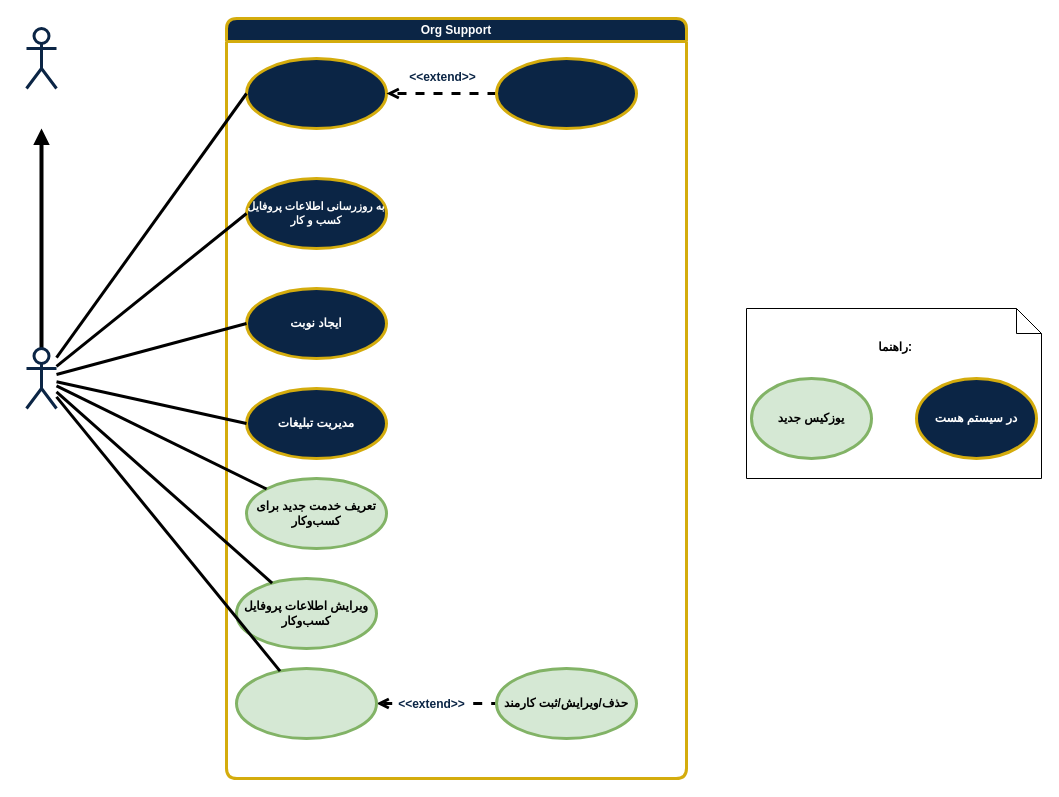
This 1059x797 diagram has some shape labels left out. Each missing label, with the centre of its shape:
"بازیابی رمز" goes at pixel 566 93.
"مشاهده لیست کارمندان" goes at pixel 306 703.
"ورود" goes at pixel 316 93.
"پشتیبان کسب‌وکار" goes at pixel 41 378.
"کارمند کسب‌وکار" goes at pixel 41 58.
